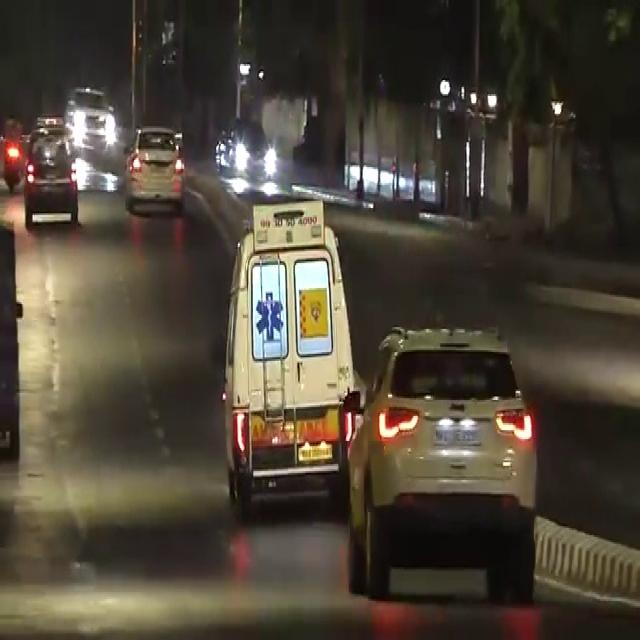ambulance: (217, 188, 355, 506)
